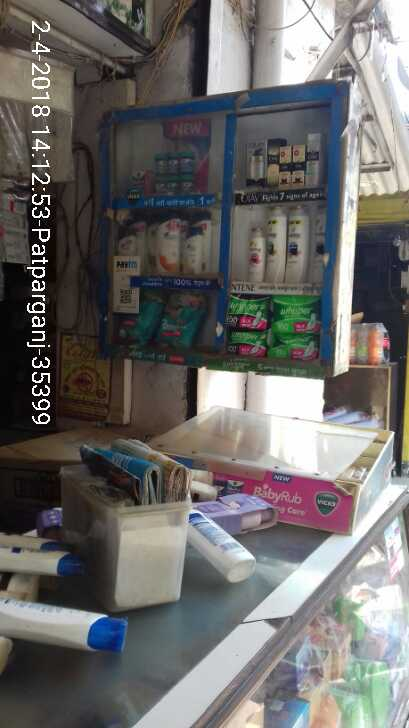vicks: (156, 151, 168, 174), (180, 151, 193, 171), (168, 151, 180, 172), (178, 175, 192, 192), (166, 175, 178, 194), (154, 176, 166, 194)
